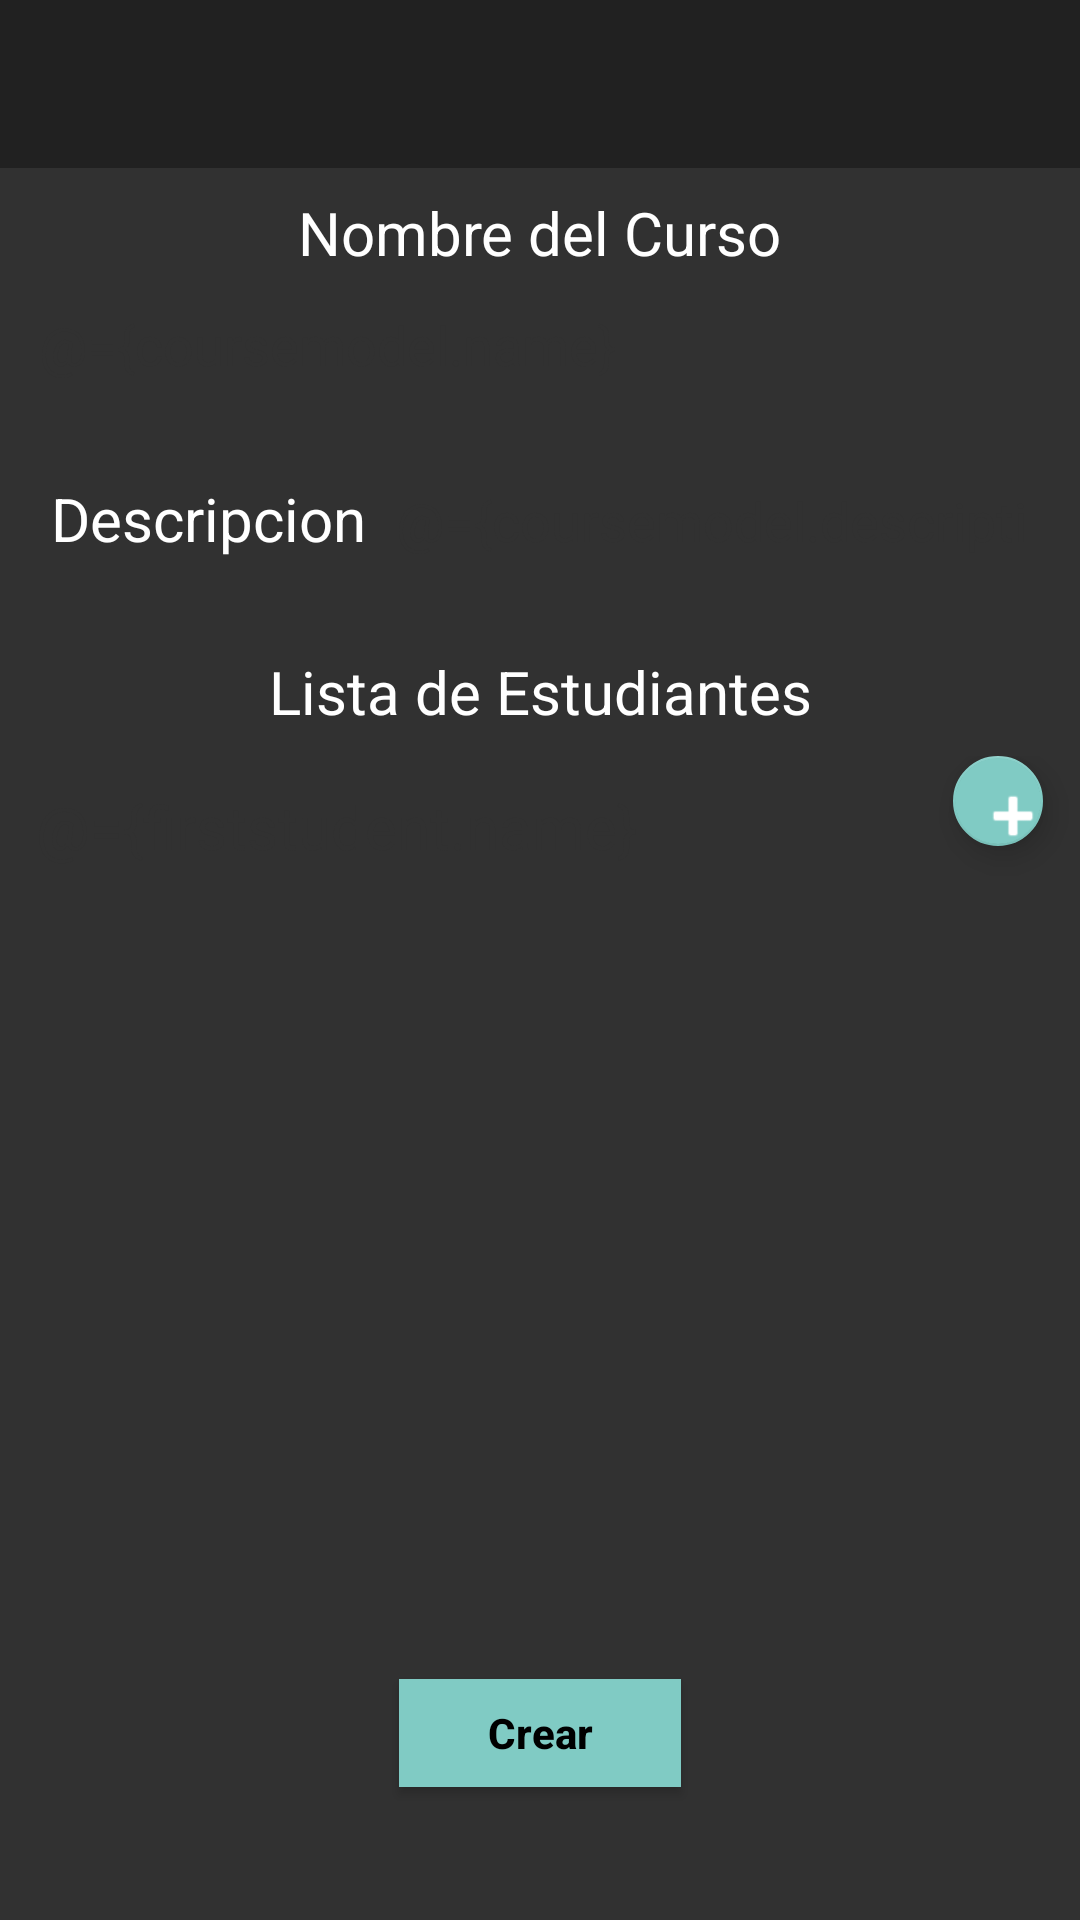

Screen size 1080×1920. Icon name, then its box in pixels as BBox(x1, y1, x2, y2):
add: BBox(953, 756, 1043, 846)
